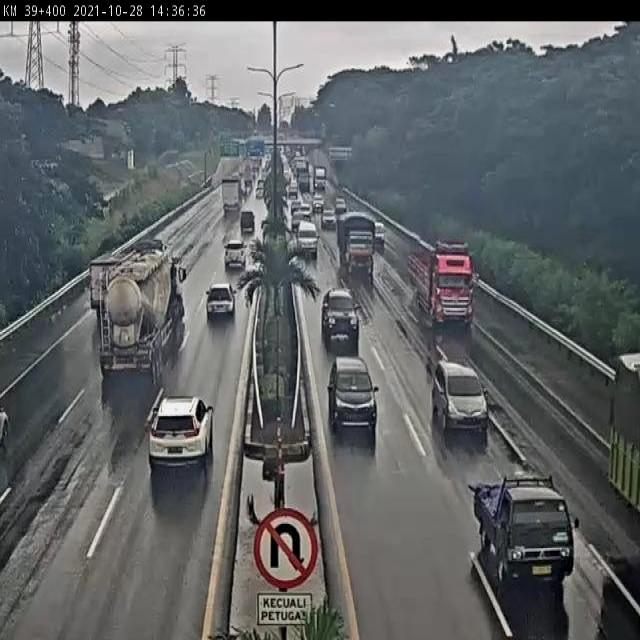Car: (146, 398, 216, 474), (327, 359, 381, 436), (431, 362, 487, 433), (321, 288, 359, 344), (204, 282, 237, 323), (295, 221, 319, 256), (223, 238, 246, 269), (240, 208, 256, 236)
Truck: (89, 244, 186, 375), (471, 471, 580, 582), (408, 240, 475, 325), (336, 210, 376, 276), (219, 178, 241, 212)
